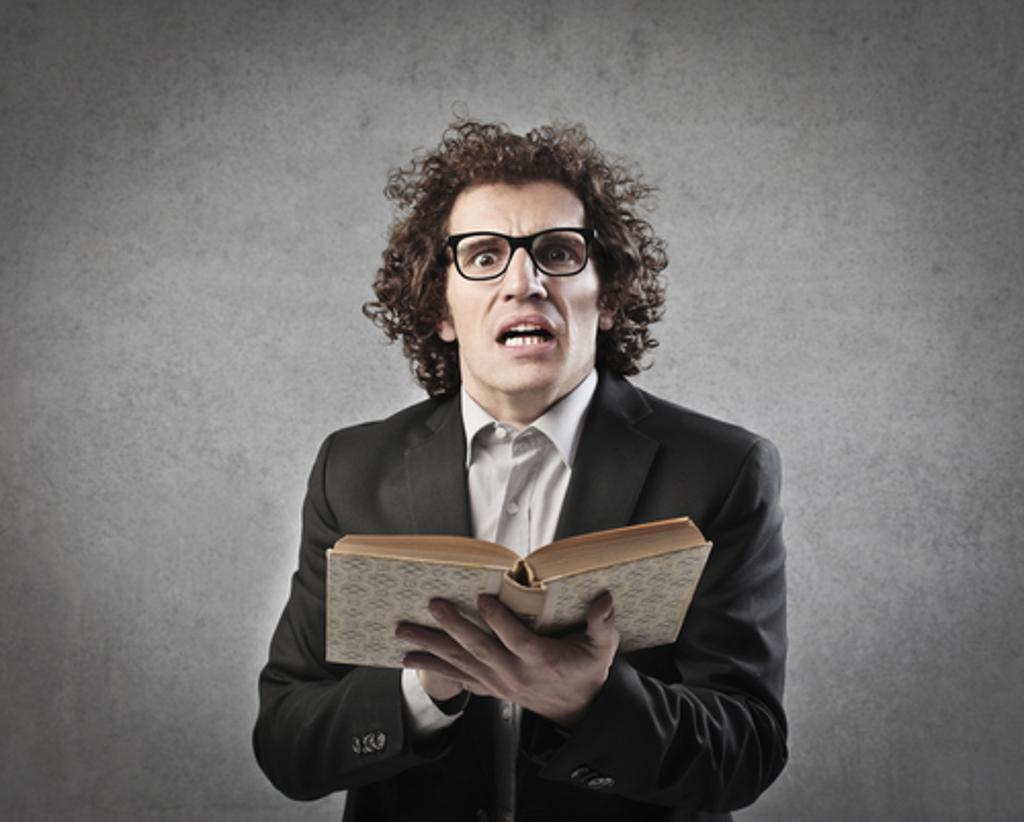face: (435, 177, 591, 395)
